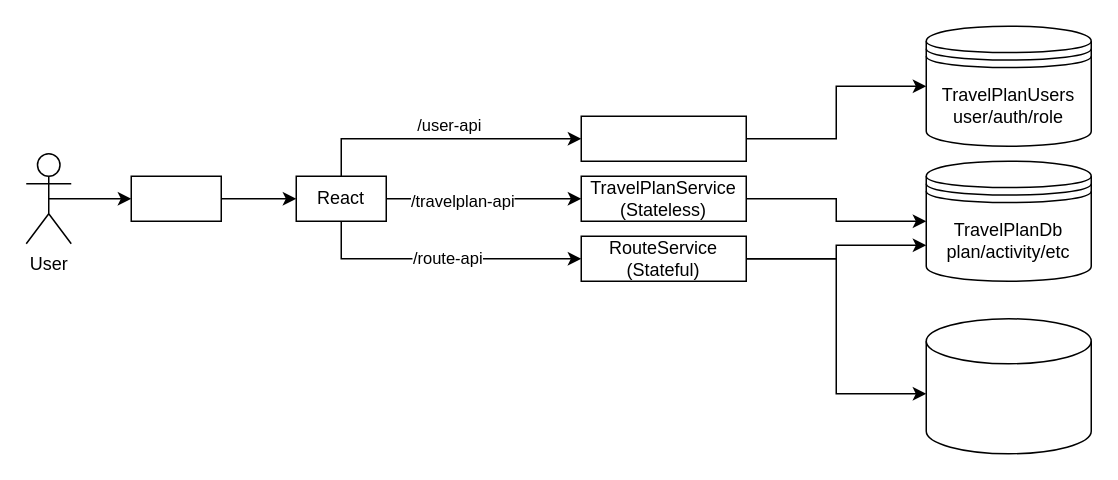
The diagram is 1118 pixels wide and 480 high, and some of its shapes have lost their labels. The centre of each missing label's shape, as x and y in pixels:
Browser: (x=175, y=198)
Reliable Dictionary cache: (x=1008, y=385)
UserService (Stateless): (x=663, y=138)
